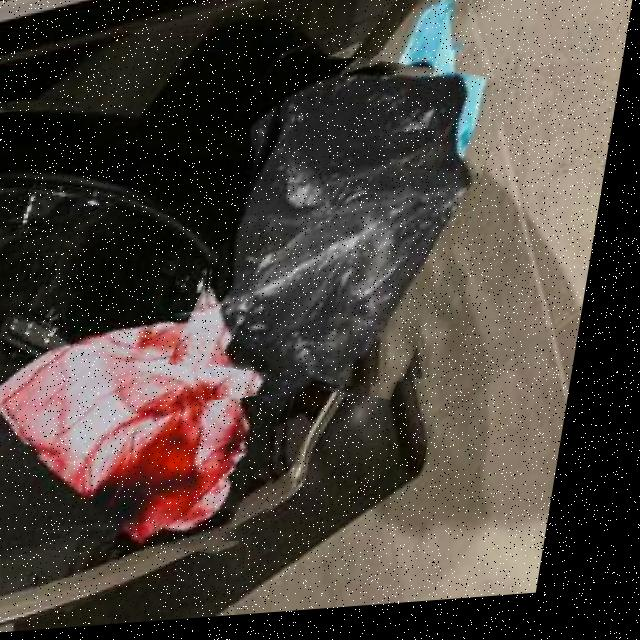plasticcover: (198, 54, 508, 406), (0, 282, 330, 562)
